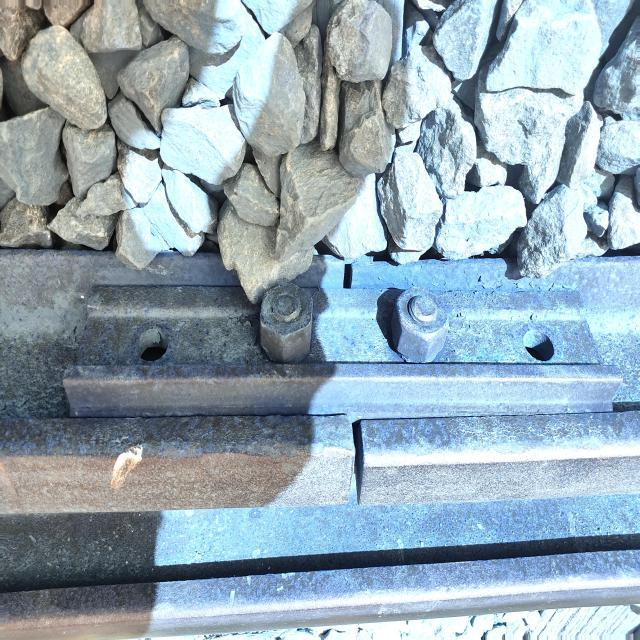Defective Joint: (68, 281, 620, 413)
